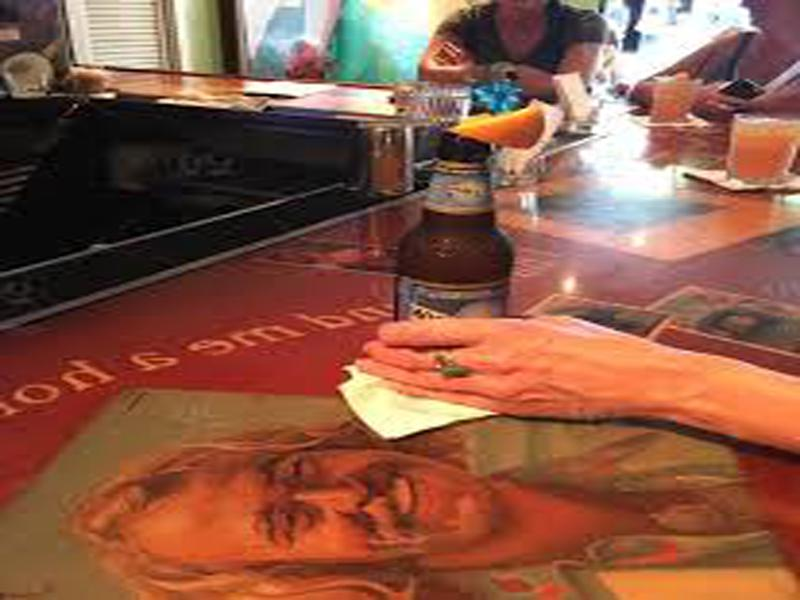Beer: (389, 126, 505, 398)
